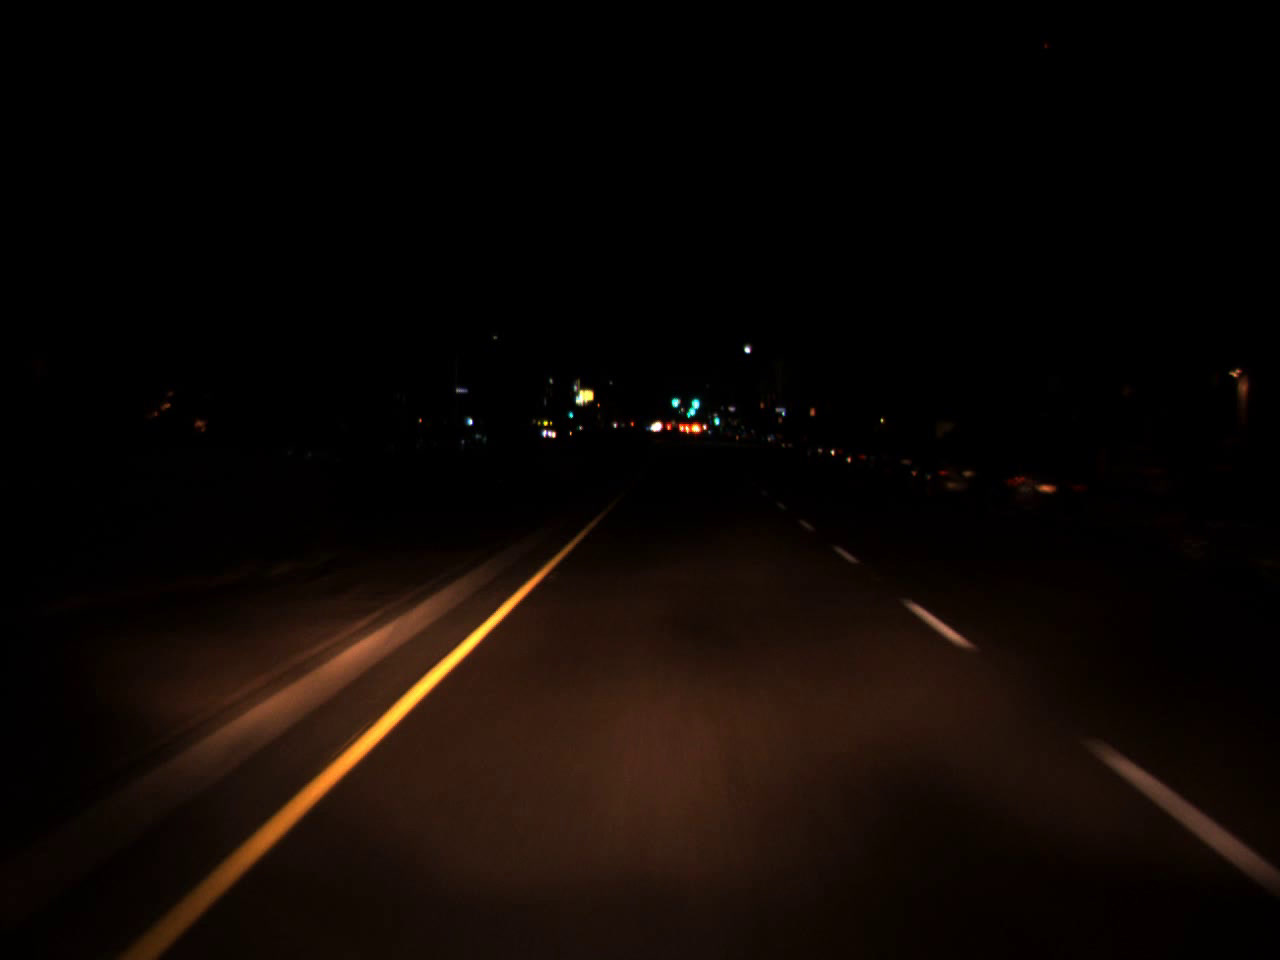go: (682, 398, 696, 422), (687, 388, 699, 412), (565, 399, 574, 419), (711, 406, 720, 427), (669, 391, 678, 409)
